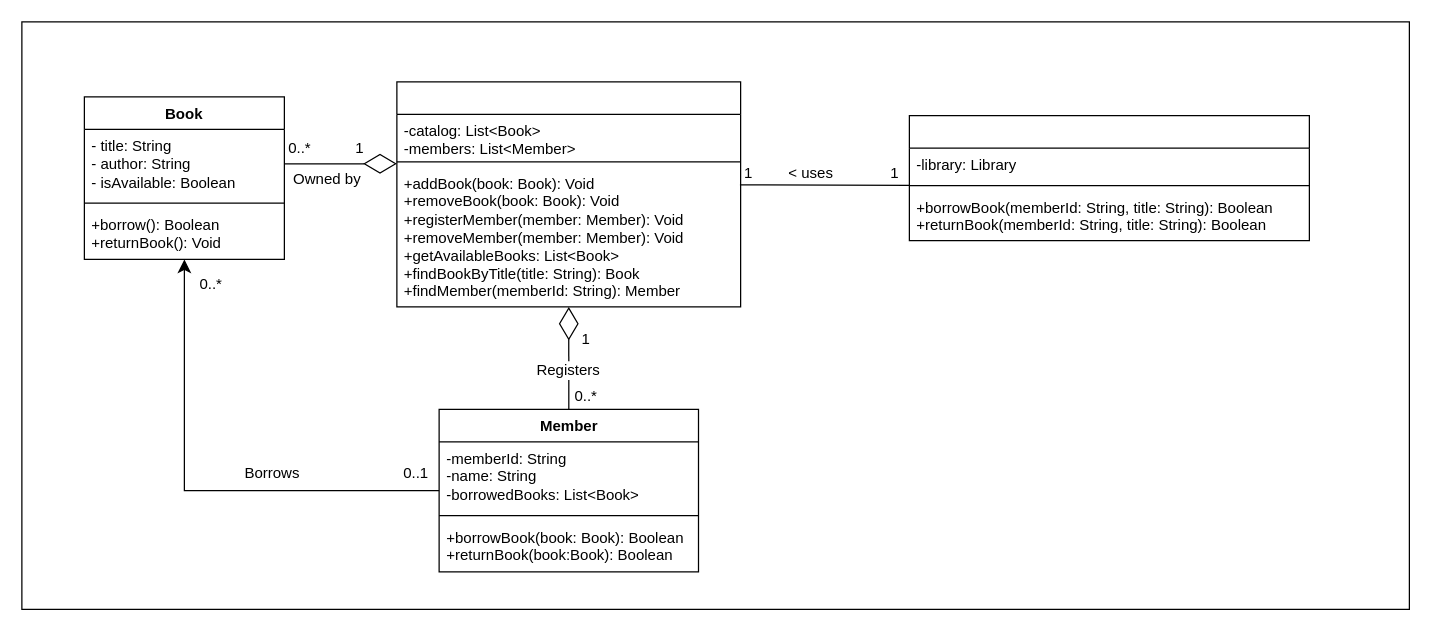
The diagram is 1431 pixels wide and 631 high, and some of its shapes have lost their labels. The shapes that lost their labels are listed below. From the top down, each one's box as (x1, y1, x2, y2) in pixels, then its label:
(396, 81, 741, 307): Library
(908, 114, 1309, 241): LibrarianController
